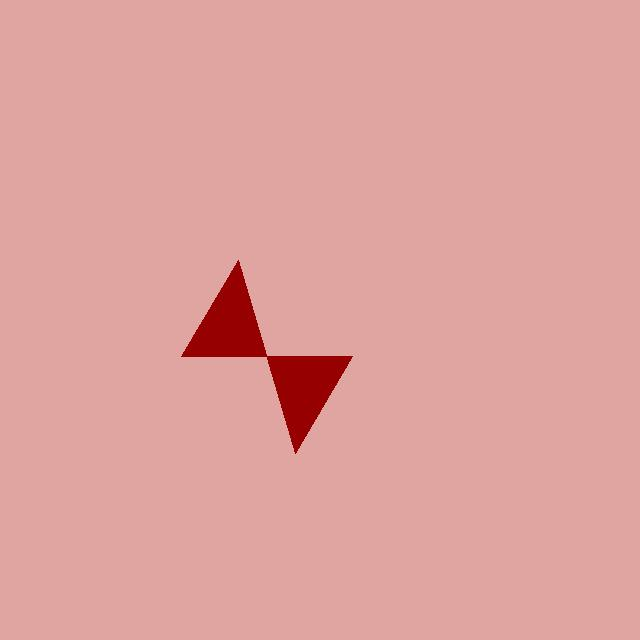laceration: (181, 260, 352, 453)
